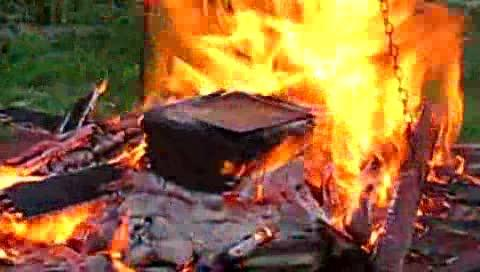fire: (127, 1, 466, 246), (0, 164, 100, 272)
